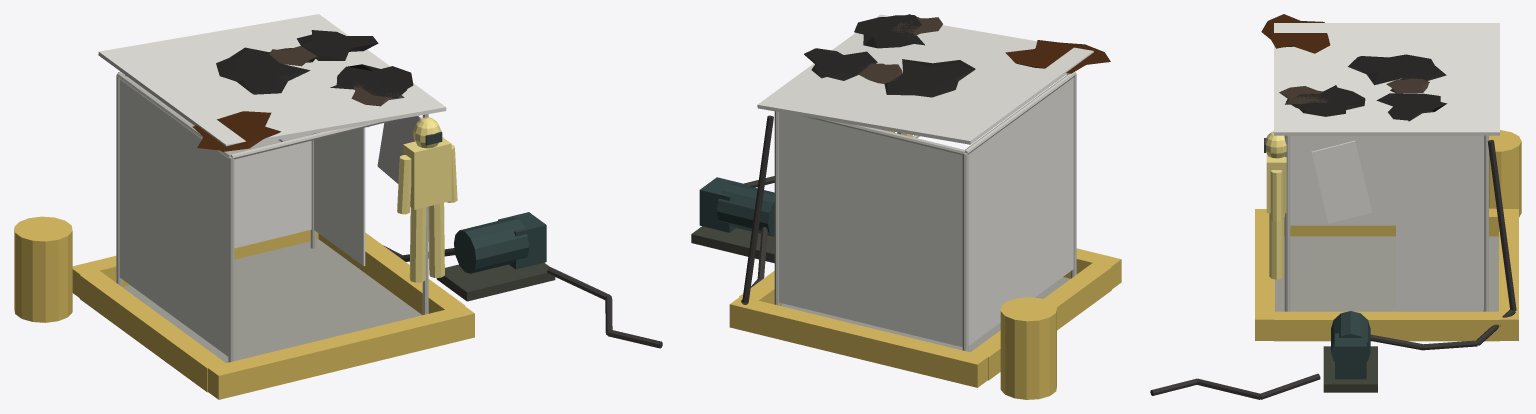
File: lab_decon.glb
3 views of the same model, side by side, from view 1: azimuth 30°, elevation 25°; view 2: azimuth 150°, elevation 25°; view 3: azimuth 270°, elevation 25° (orthographic). The views are drawn at different scales.
Parts seen in each view (by area): view 1: lab_decon; view 2: lab_decon; view 3: lab_decon.
Boxes of the visible parts, bbox=[...] form: lab_decon: bbox=[14, 14, 662, 399]; lab_decon: bbox=[691, 14, 1121, 399]; lab_decon: bbox=[1150, 14, 1521, 399].
Size of the model in its own units: 5.21 by 2.63 by 4.11.
